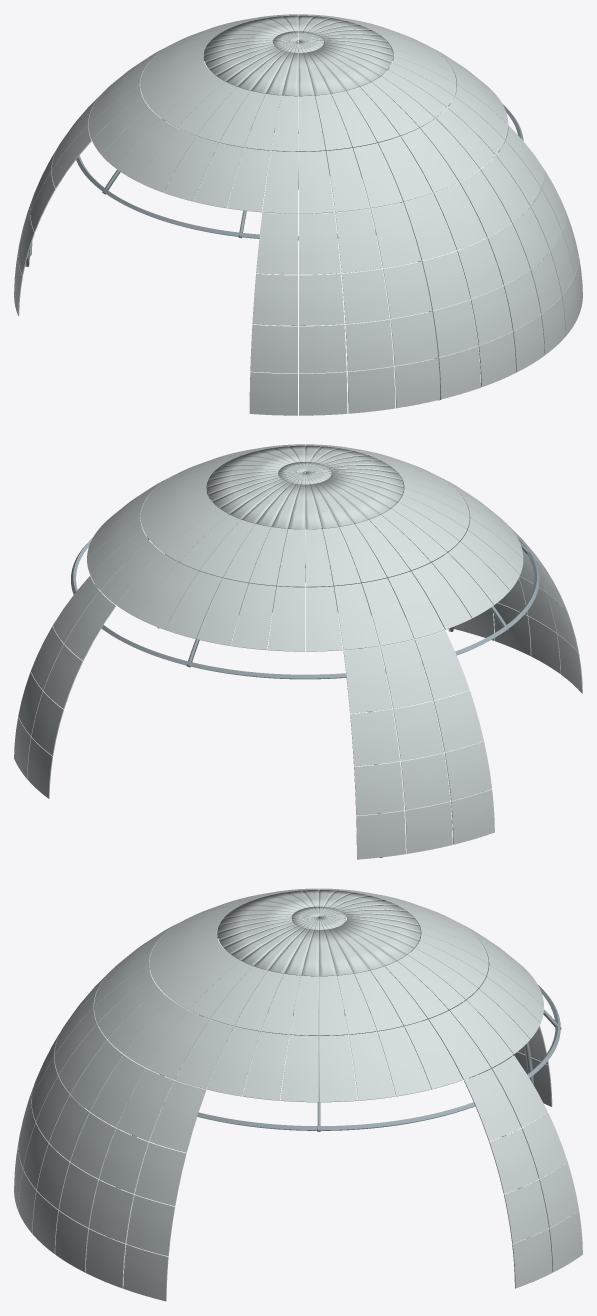
File: RD_C04_Architecture.fbx
The picture shows the model from 3 angles, top to bottom: view 1: azimuth 30°, elevation 25°; view 2: azimuth 150°, elevation 25°; view 3: azimuth 270°, elevation 25°; orthographic projection. The views are drawn at different scales.
Visible parts, largest first — view 1: RD_C04_Architecture; view 2: RD_C04_Architecture; view 3: RD_C04_Architecture.
Part boxes in pixels (x1,y1,x2,y2): RD_C04_Architecture: [14, 14, 582, 415]; RD_C04_Architecture: [14, 444, 582, 859]; RD_C04_Architecture: [14, 888, 582, 1301].
Bounding box in the file's own units: 1079 × 593 × 1116.
